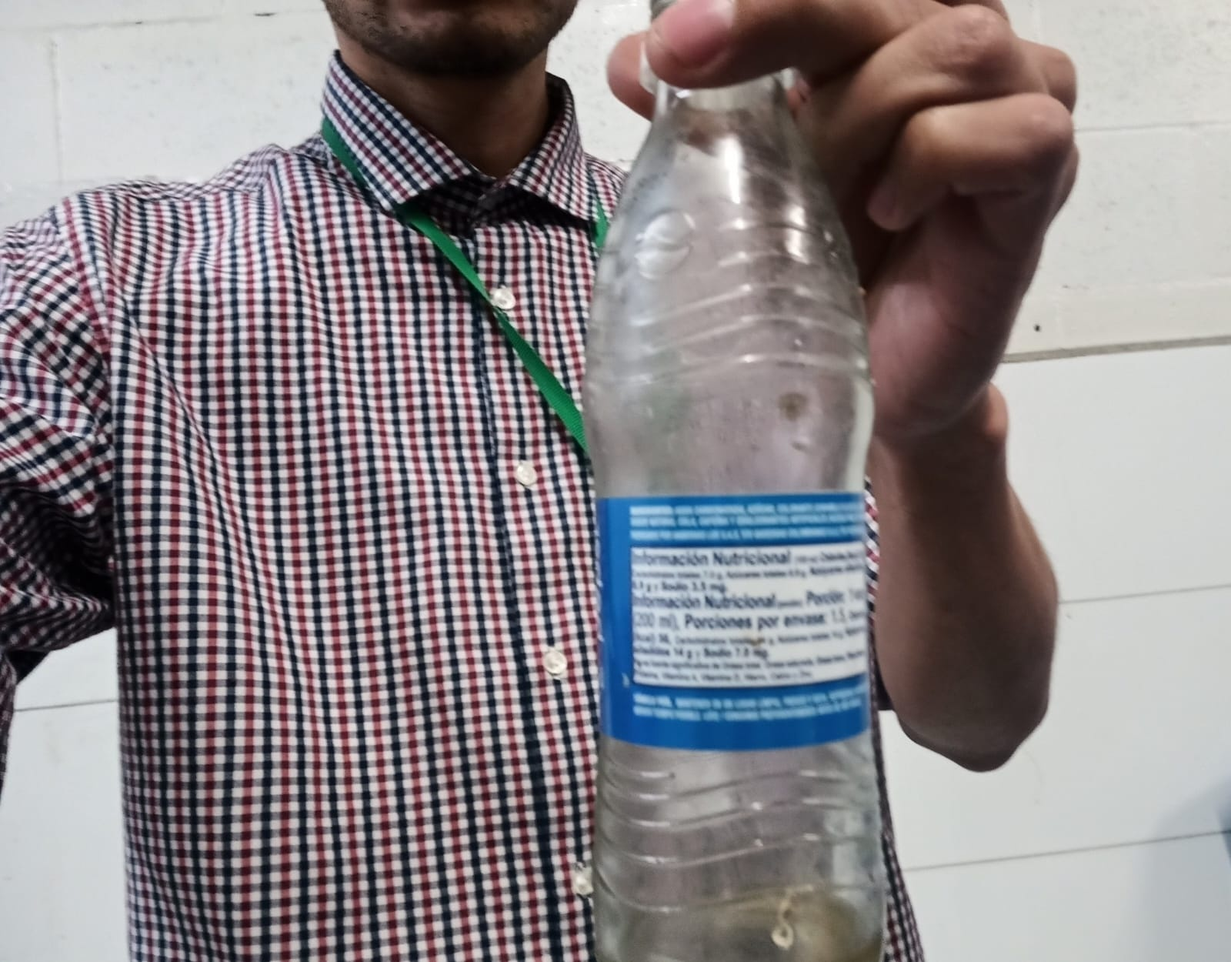Plastico: (579, 0, 889, 959)
